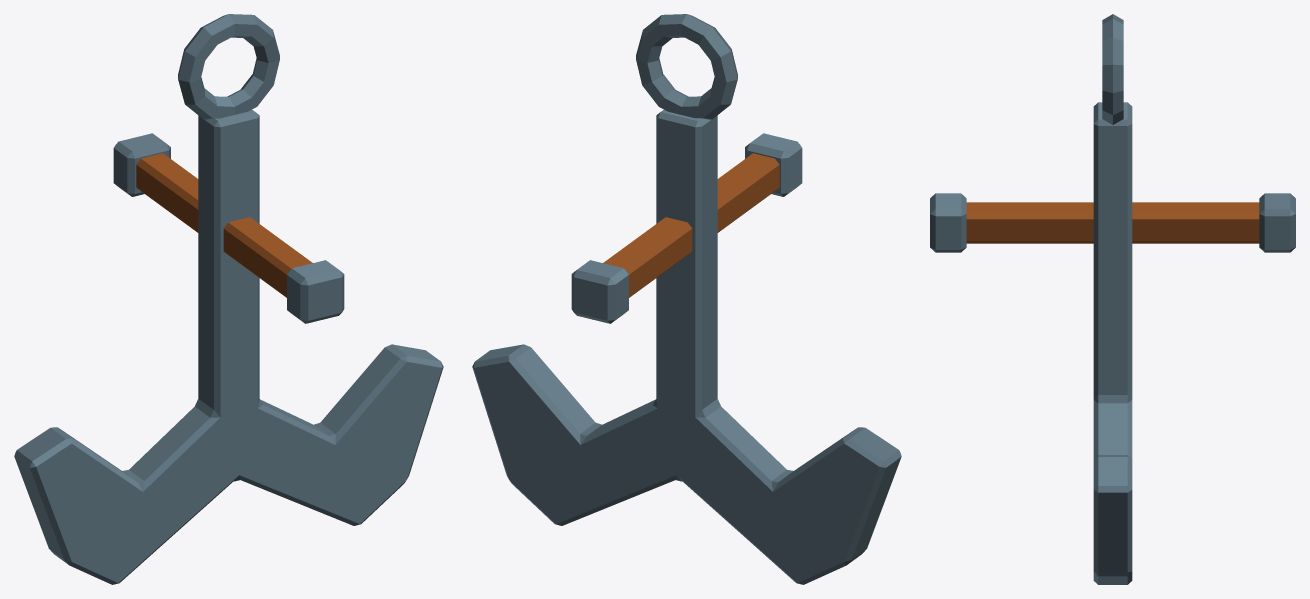
The model's file is EM_Anchor.fbx.
The picture shows the model from 3 angles, left to right: view 1: azimuth 30°, elevation 25°; view 2: azimuth 150°, elevation 25°; view 3: azimuth 270°, elevation 25°; orthographic projection. The views are drawn at different scales.
Visible parts, largest first — view 1: EM_Anchor; view 2: EM_Anchor; view 3: EM_Anchor.
Boxes of the visible parts, <box> form: EM_Anchor: <box>14,14,443,584</box>; EM_Anchor: <box>472,14,901,584</box>; EM_Anchor: <box>930,14,1295,584</box>.
Bounding box in the file's own units: 0.9931 × 1.23 × 0.8.
